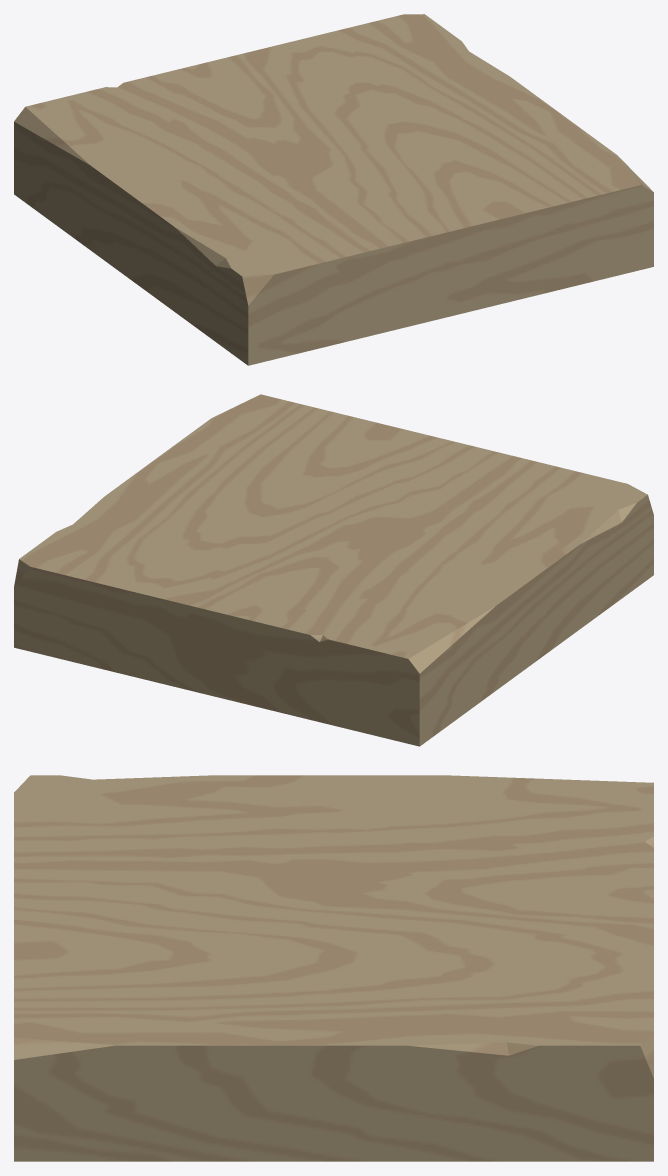
File: SM_Prop_Wood_Plinth_01.glb
The picture shows the model from 3 angles, top to bottom: view 1: azimuth 30°, elevation 25°; view 2: azimuth 150°, elevation 25°; view 3: azimuth 270°, elevation 25°; orthographic projection. The views are drawn at different scales.
Parts seen in each view (by area): view 1: SM_Prop_Wood_Plinth_01; view 2: SM_Prop_Wood_Plinth_01; view 3: SM_Prop_Wood_Plinth_01.
Part boxes in pixels (x1,y1,x2,y2): SM_Prop_Wood_Plinth_01: (14,14,653,365); SM_Prop_Wood_Plinth_01: (14,394,653,746); SM_Prop_Wood_Plinth_01: (14,775,653,1161).
Size of the model in its own units: 2 by 0.4 by 2.
1 material, 1 textured.
